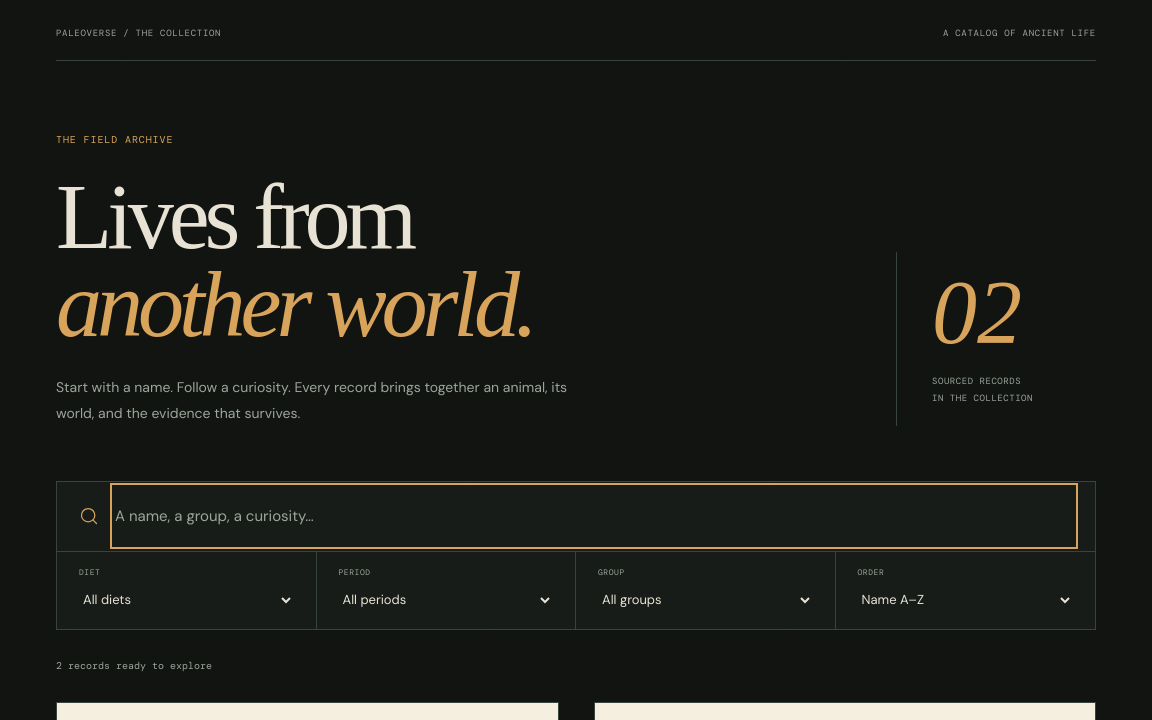
it: archive links › keeps search focus and announces an empty collection after updating the query
Step 1. Type "no such dinosaur" into the field named "Search specimens" → (594, 516), box [115,488,1073,544]
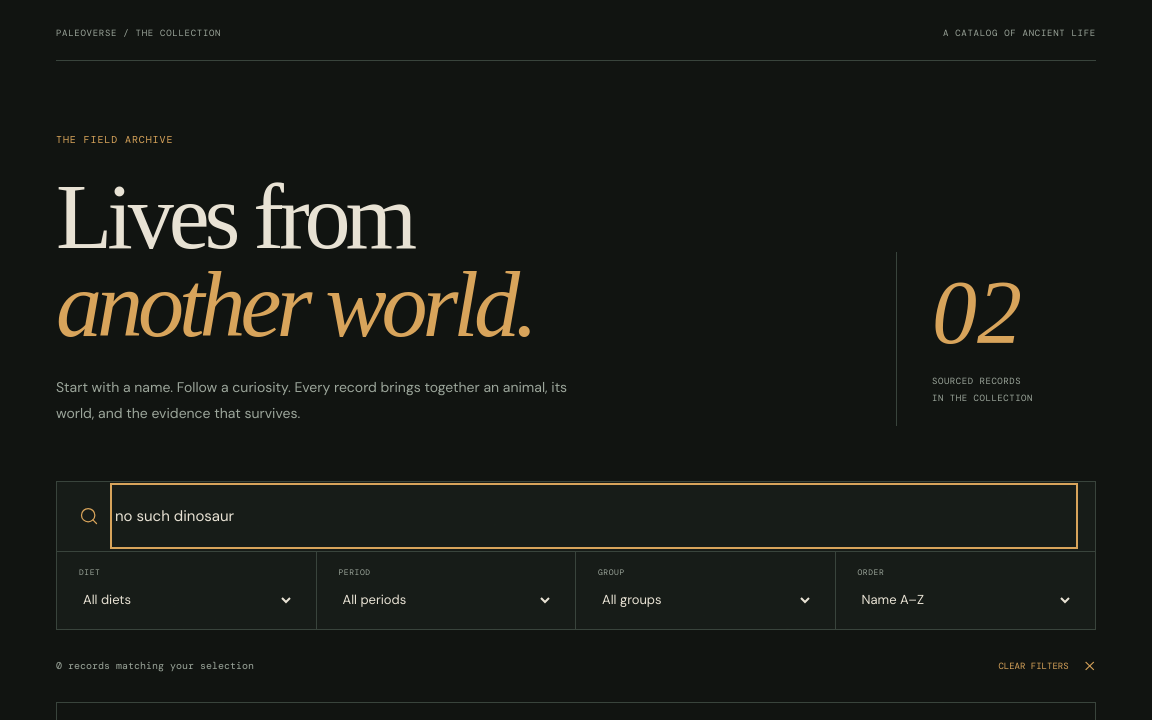
Expected: the message reads "0 records matching your selection", [56,657,254,675]
Step 2. Click the button "CLEAR FILTERS ×" → (1041, 666), box [986,644,1096,688]
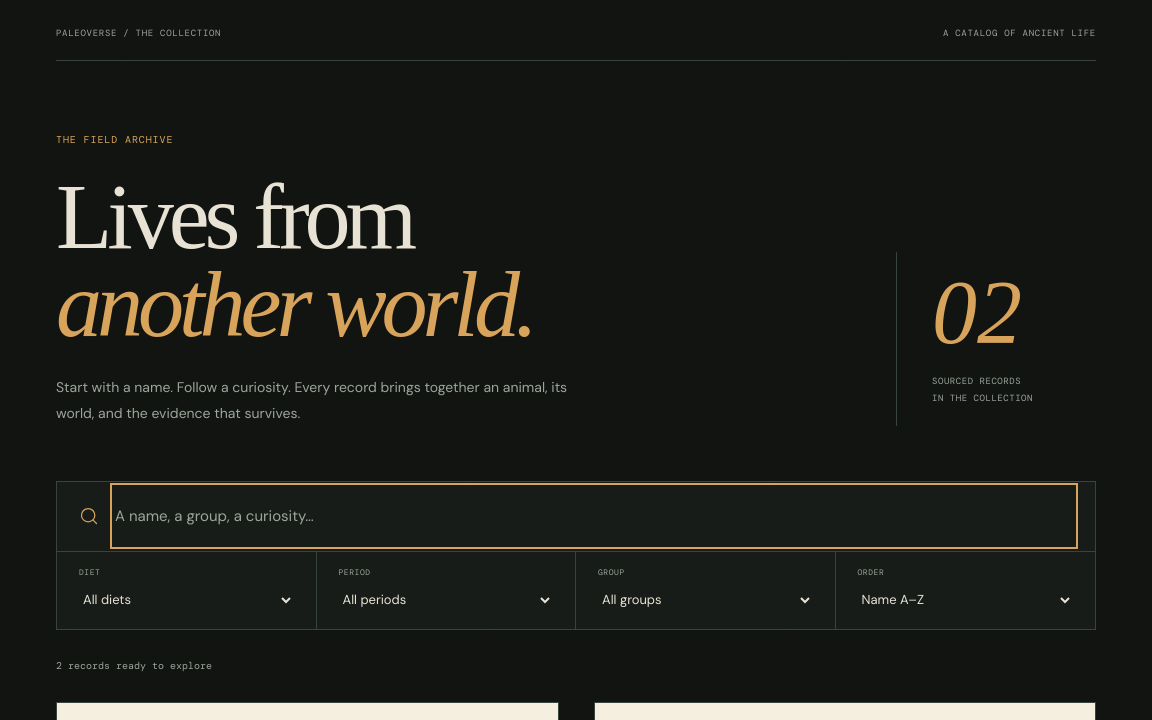
Expected: the field named "Search specimens" is empty, [115,488,1073,544]
